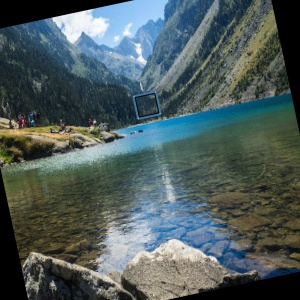square: (130, 88, 164, 122)
